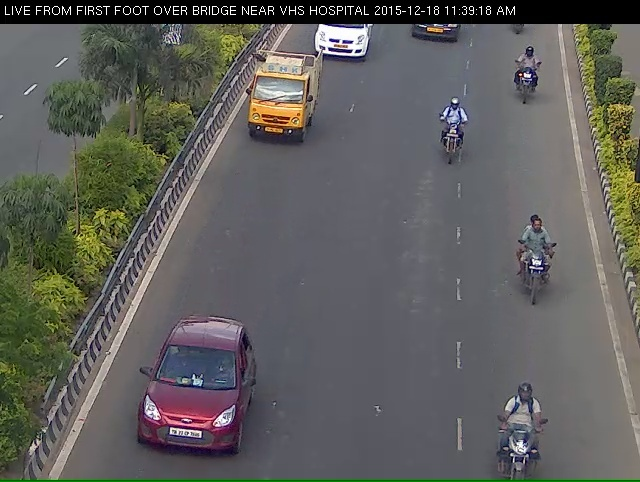Auto: (236, 59, 314, 155)
Car: (136, 354, 244, 482), (308, 23, 379, 72)
Person: (516, 234, 557, 330), (431, 109, 476, 184), (496, 424, 557, 478), (507, 58, 545, 114)
